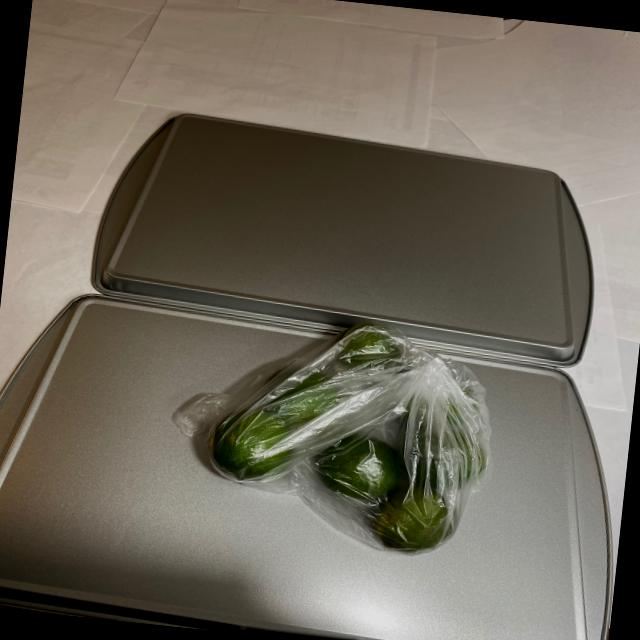lemon: (201, 311, 487, 557)
